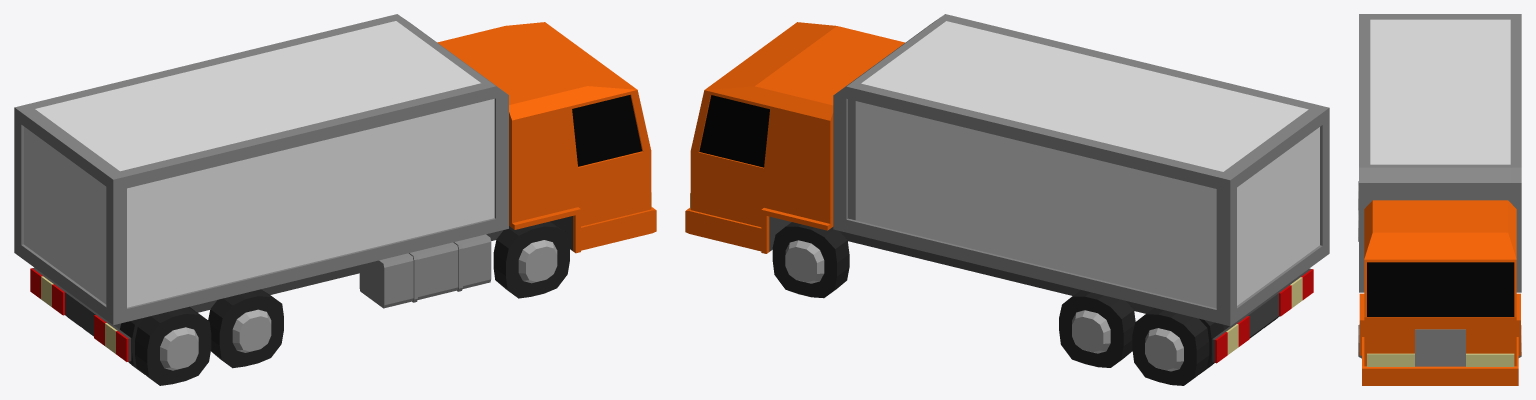
The model's file is Orange Truck (Low Poly).fbx.
The picture shows the model from 3 angles, left to right: view 1: azimuth 30°, elevation 25°; view 2: azimuth 150°, elevation 25°; view 3: azimuth 270°, elevation 25°; orthographic projection. The views are drawn at different scales.
Visible parts, largest first — view 1: Case, Cabin, FuelTank, Wheel3, Wheel1, Wheel2; view 2: Case, Cabin, Wheel6, Wheel5, Wheel4; view 3: Case, Cabin.
Part boxes in pixels (x1=…): Case: x1=14, y1=14, x2=508, y2=325; Cabin: x1=30, y1=22, x2=656, y2=361; FuelTank: x1=359, y1=234, x2=491, y2=308; Wheel3: x1=135, y1=307, x2=211, y2=385; Wheel1: x1=493, y1=221, x2=569, y2=298; Wheel2: x1=208, y1=289, x2=283, y2=368; Case: x1=833, y1=14, x2=1329, y2=326; Cabin: x1=685, y1=22, x2=1313, y2=363; Wheel6: x1=1132, y1=308, x2=1209, y2=385; Wheel5: x1=1059, y1=290, x2=1135, y2=367; Wheel4: x1=772, y1=222, x2=849, y2=298; Case: x1=1359, y1=14, x2=1521, y2=292; Cabin: x1=1359, y1=200, x2=1520, y2=385.
Bounding box in the file's own units: 1019 × 397 × 322.
